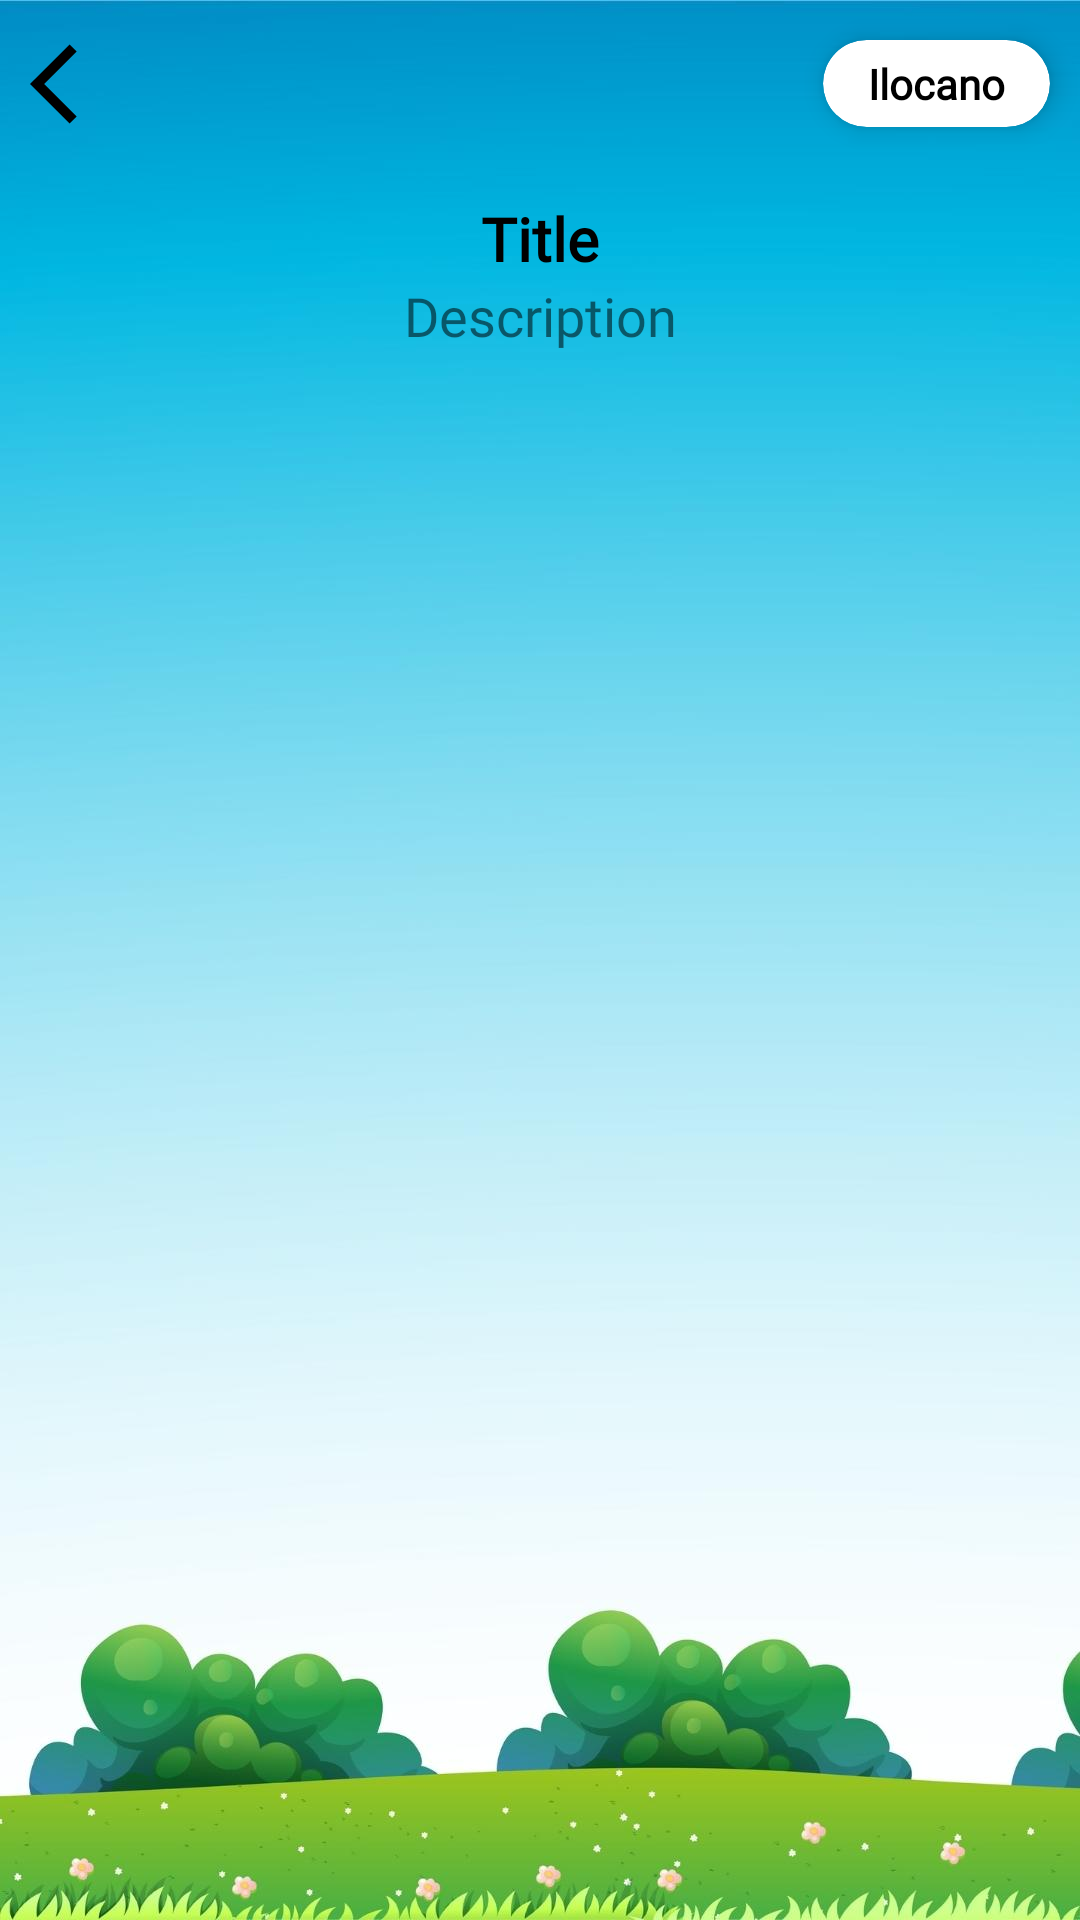

Icons on this 1080px×1920px Android screen, each with the point to tap as (x,y):
arrow back: (53,84)
